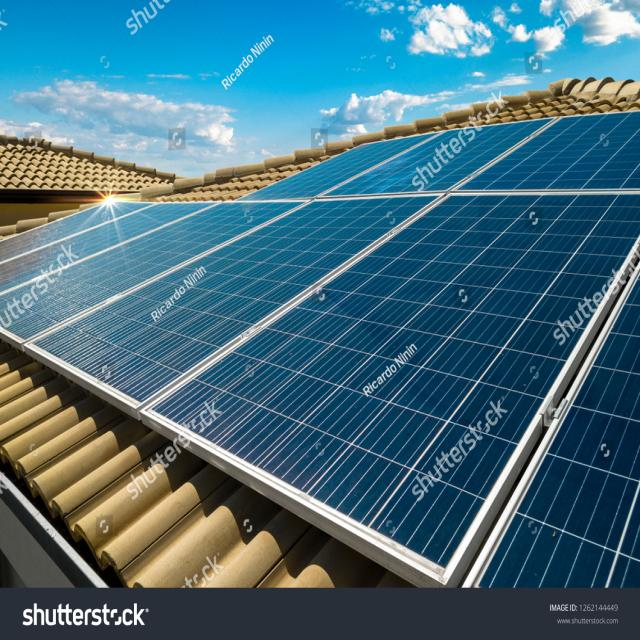clean-solar-panel: (0, 112, 640, 587)
